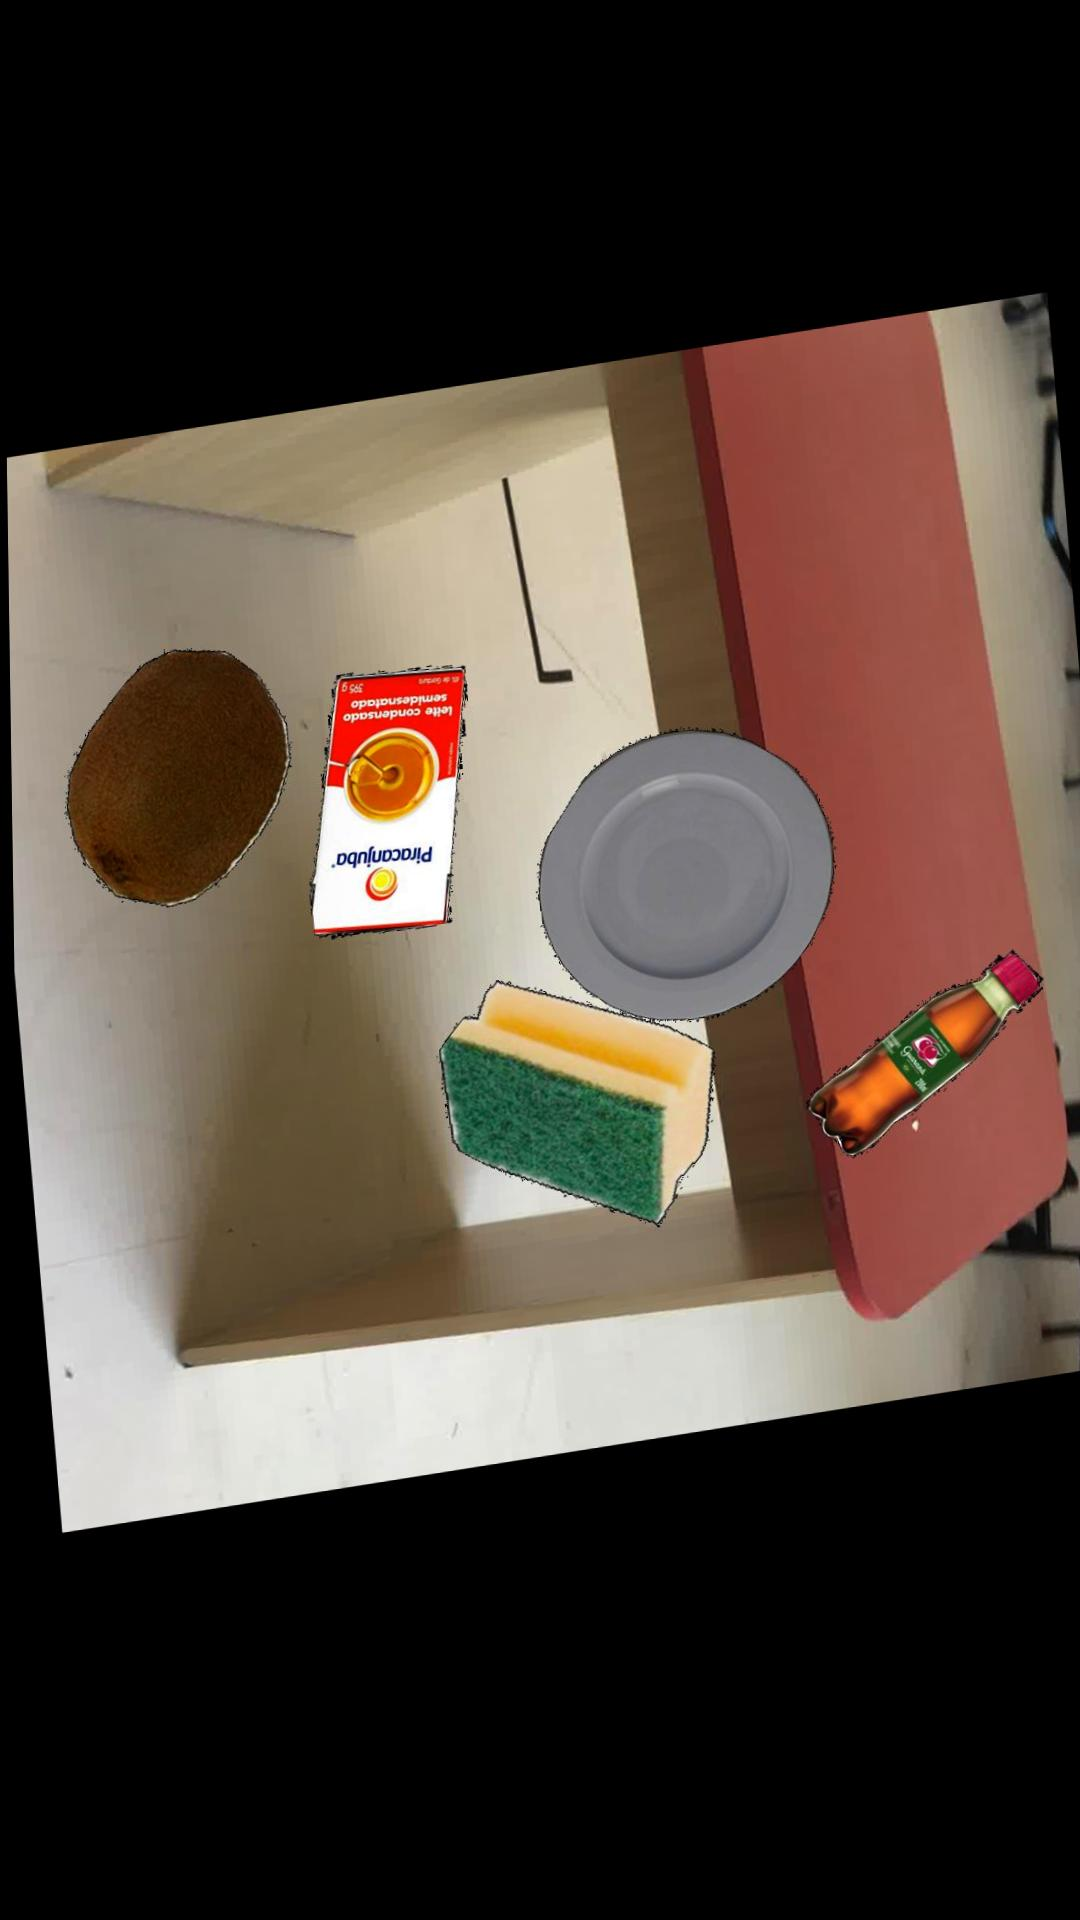guarana: (803, 965, 1040, 1170)
kiwi: (65, 650, 290, 907)
plate: (537, 738, 833, 1031)
sponge: (436, 986, 712, 1234)
